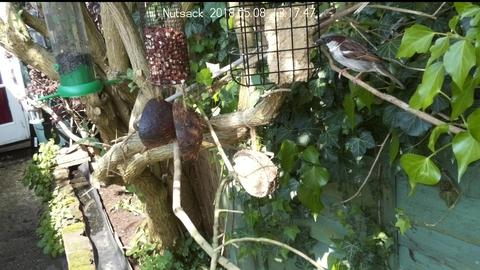sparrow: (315, 32, 406, 88)
